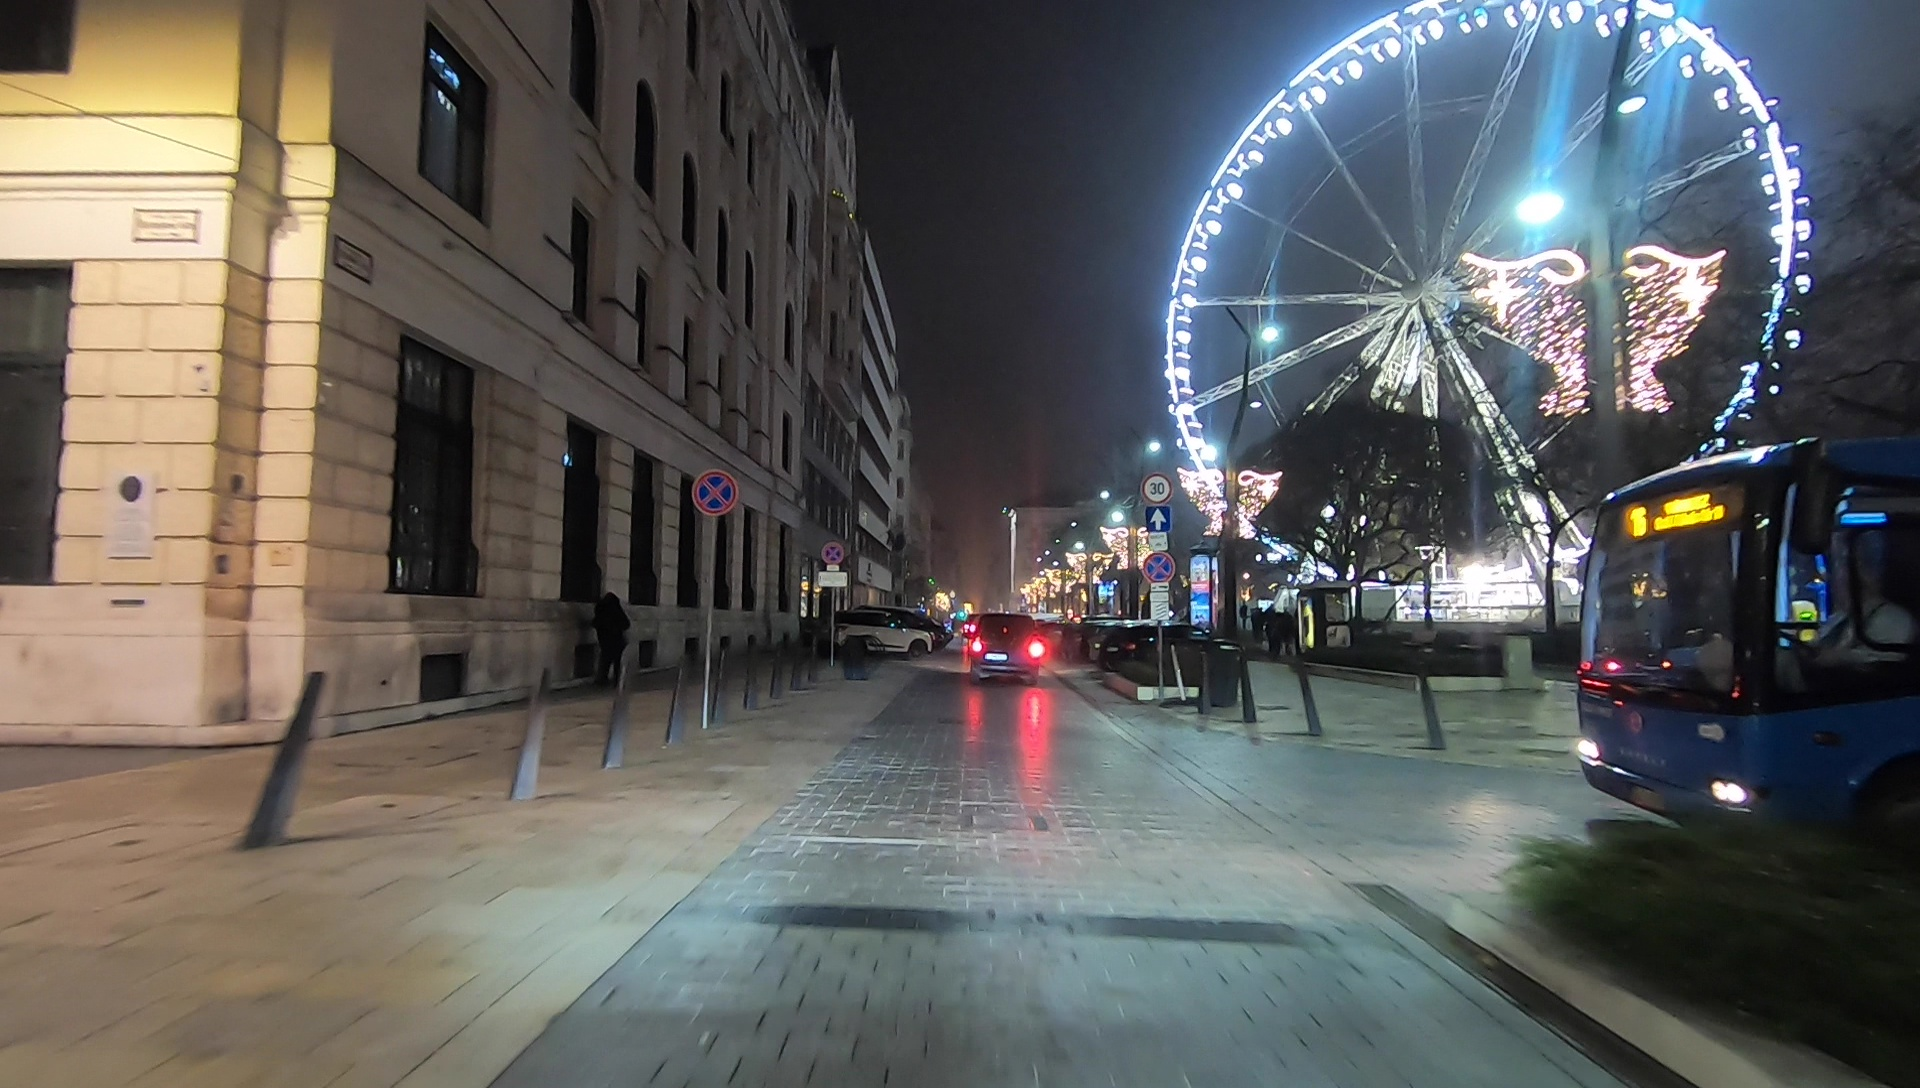person: (591, 591, 630, 695)
